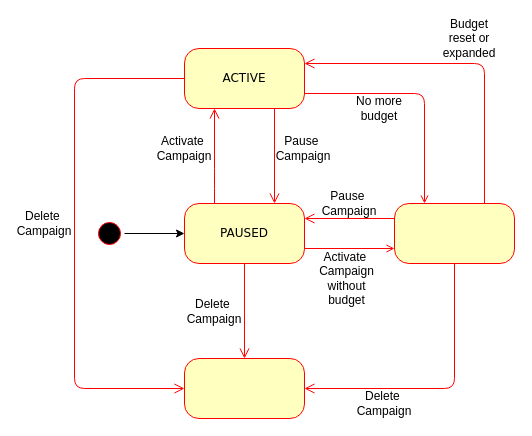
The diagram is 532 pixels wide and 436 high, and some of its shapes have lost their labels. Each missing label, with the centre of its shape:
"BUDGET_REACHED" belongs at [454,233].
"DELETED" belongs at [244,388].
